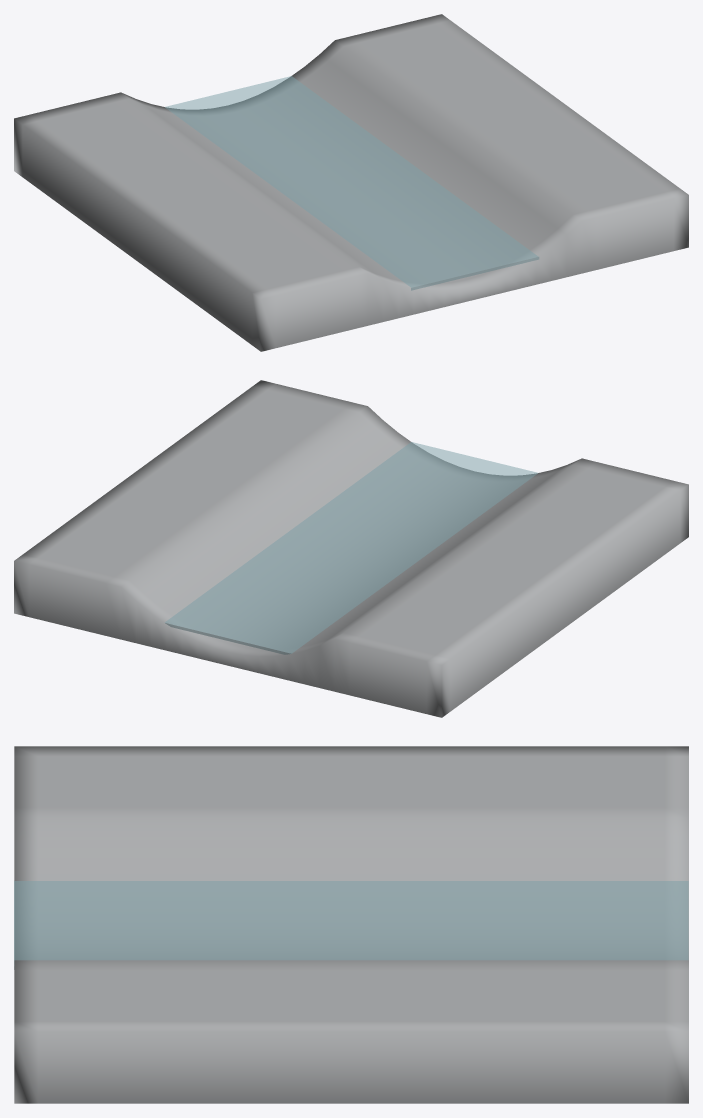
File: alpine-and-arctic-biomes-meltwater-straight-d5e48adc__21055.glb
The picture shows the model from 3 angles, top to bottom: view 1: azimuth 30°, elevation 25°; view 2: azimuth 150°, elevation 25°; view 3: azimuth 270°, elevation 25°; orthographic projection. The views are drawn at different scales.
Parts seen in each view (by area): view 1: meltwater-straight; view 2: meltwater-straight; view 3: meltwater-straight.
Part boxes in pixels (x1,y1,x2,y2): meltwater-straight: (14, 14, 688, 351); meltwater-straight: (14, 380, 688, 717); meltwater-straight: (14, 746, 688, 1103).
Bounding box in the file's own units: 4 × 0.4697 × 4.
